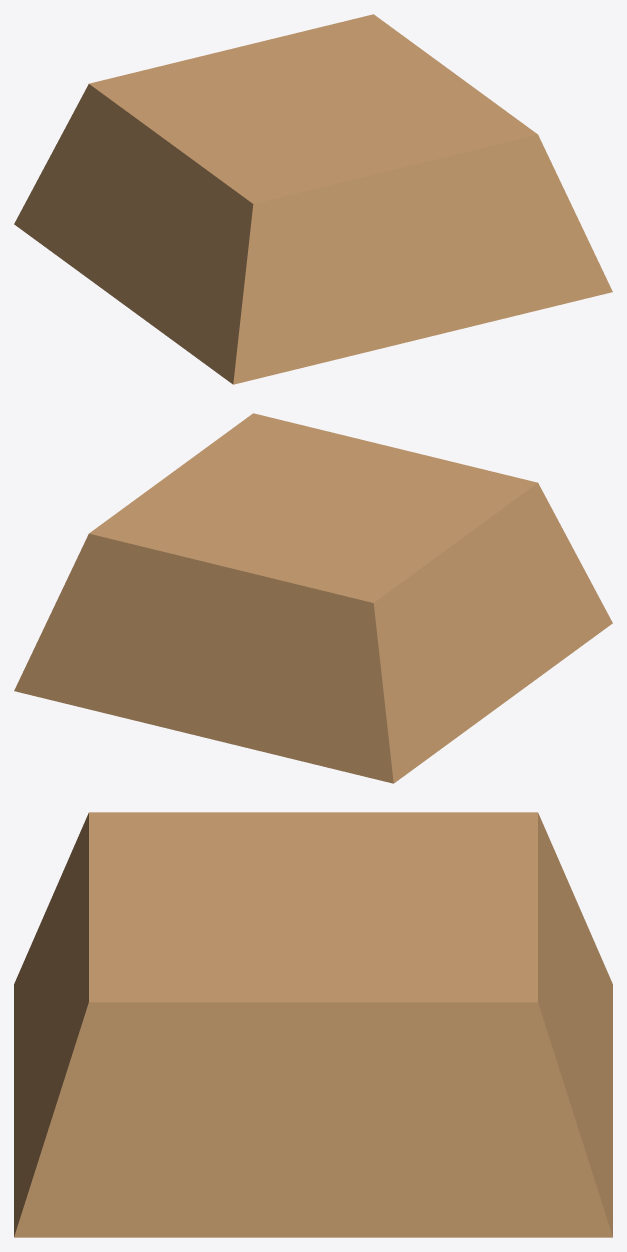
File: Stairs_Newel_Base.fbx
The picture shows the model from 3 angles, top to bottom: view 1: azimuth 30°, elevation 25°; view 2: azimuth 150°, elevation 25°; view 3: azimuth 270°, elevation 25°; orthographic projection. The views are drawn at different scales.
Visible parts, largest first — view 1: object1; view 2: object1; view 3: object1.
Boxes of the visible parts, left/top/right/bottom form: object1: left=14, top=14, right=612, bottom=384; object1: left=14, top=413, right=612, bottom=783; object1: left=14, top=812, right=612, bottom=1237.
Size of the model in its own units: 0.4 by 0.15 by 0.4.
